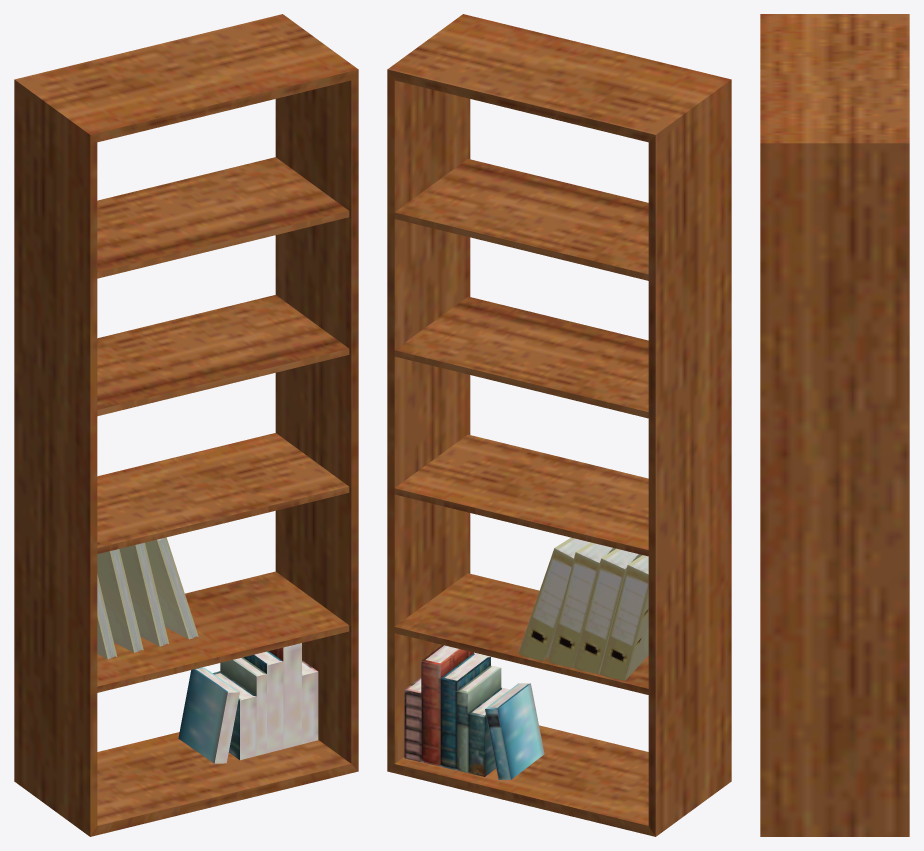
File: bookcase_02.fbx
The picture shows the model from 3 angles, left to right: view 1: azimuth 30°, elevation 25°; view 2: azimuth 150°, elevation 25°; view 3: azimuth 270°, elevation 25°; orthographic projection.
Visible parts, largest first — view 1: book_case_small, books_alt, file_binder_alt1, file_binder_alt3, file_binder_alt2, file_binder_alt; view 2: book_case_small, books_alt, file_binder_alt, file_binder_alt1, file_binder_alt3, file_binder_alt2; view 3: book_case_small.
Boxes of the visible parts, bbox=[...] form: book_case_small: bbox=[14, 14, 358, 836]; books_alt: bbox=[178, 643, 318, 763]; file_binder_alt1: bbox=[97, 549, 143, 652]; file_binder_alt3: bbox=[119, 542, 169, 646]; file_binder_alt2: bbox=[145, 537, 198, 639]; file_binder_alt: bbox=[97, 574, 117, 659]; book_case_small: bbox=[387, 14, 731, 836]; books_alt: bbox=[404, 645, 544, 779]; file_binder_alt: bbox=[599, 555, 648, 680]; file_binder_alt1: bbox=[573, 548, 642, 674]; file_binder_alt3: bbox=[547, 542, 615, 667]; file_binder_alt2: bbox=[518, 537, 590, 660]; book_case_small: bbox=[760, 14, 909, 836].
Size of the model in its own units: 100 by 250 by 48.88.
